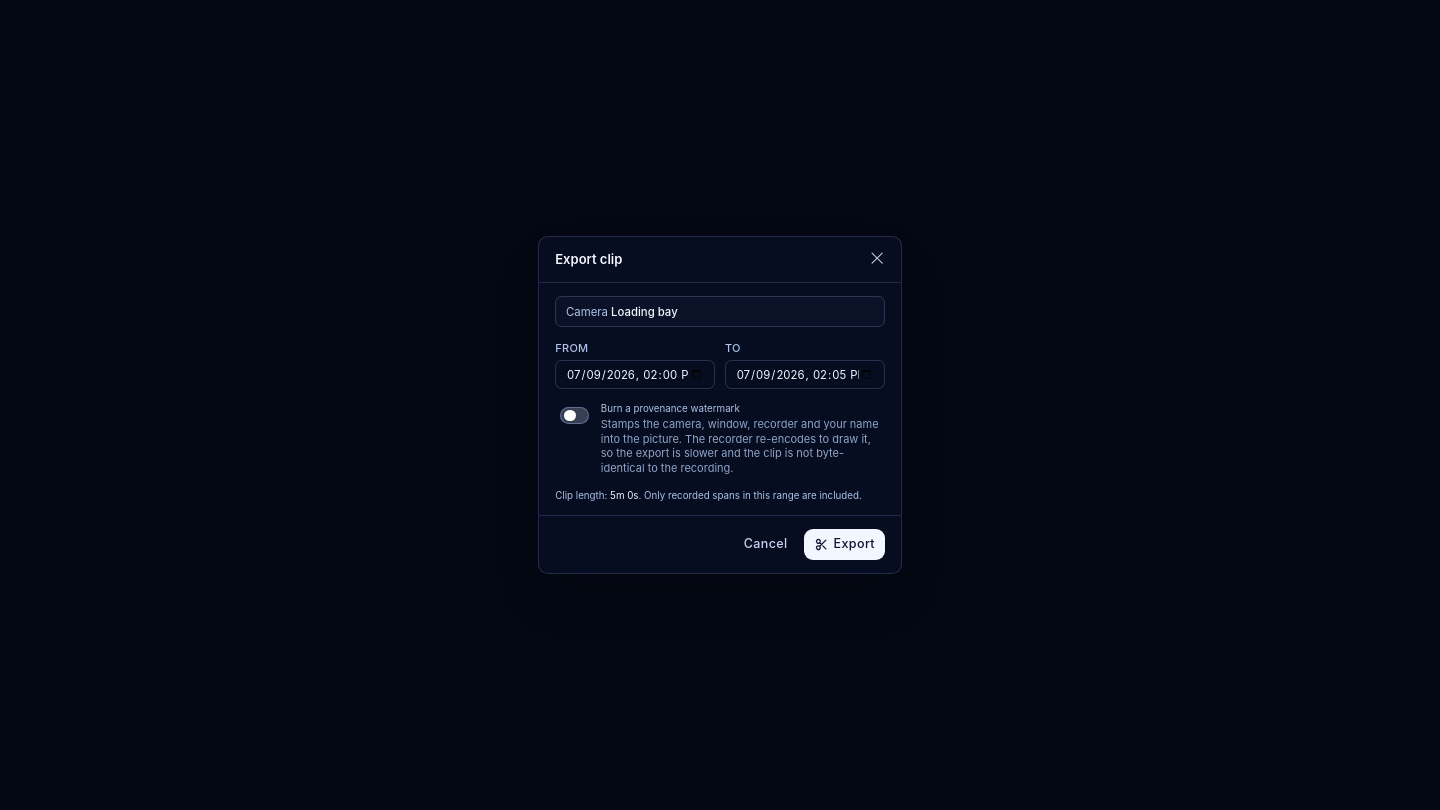
Test case: ExportDialog footer › offers Try again on a failure, and never a Download
The width and height of the screenshot is (1440, 810).
Click the button "Export" at point(844, 544), box [804,529,885,560]
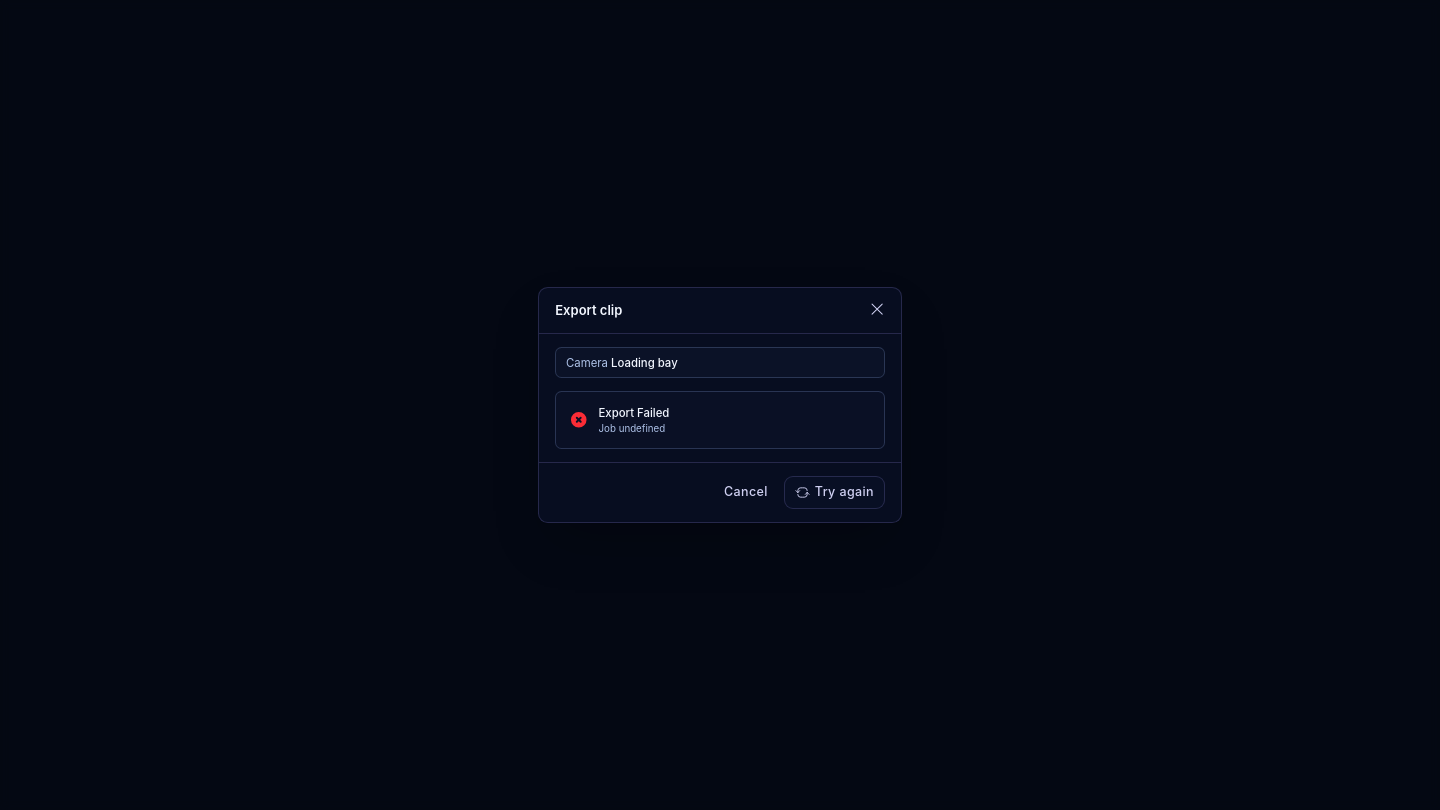
Check: the button "Try again" is shown, box [784,476,885,509]
